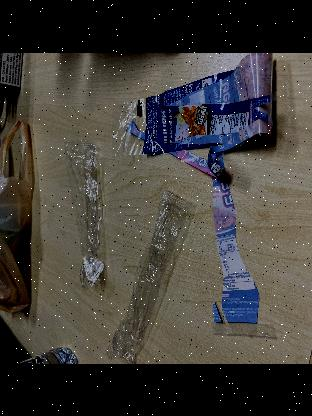Others: (115, 54, 278, 166), (110, 194, 192, 364), (58, 134, 111, 292)
